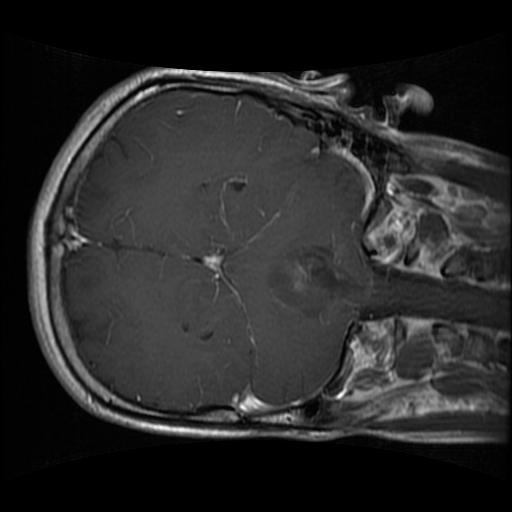glioma: (263, 242, 357, 325)
